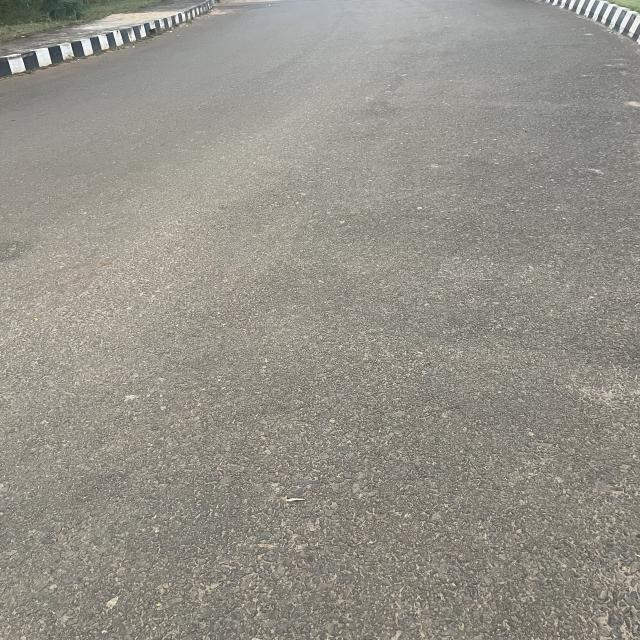D43: (186, 544, 616, 626)
